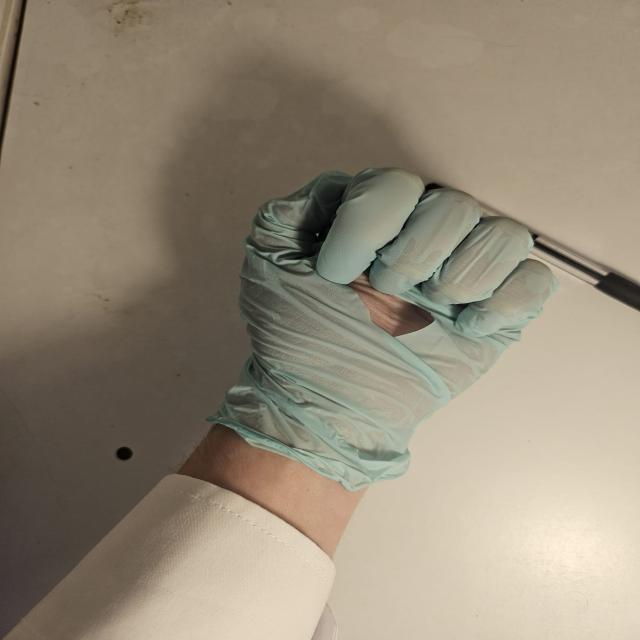gloves_damaged: (201, 164, 558, 486)
